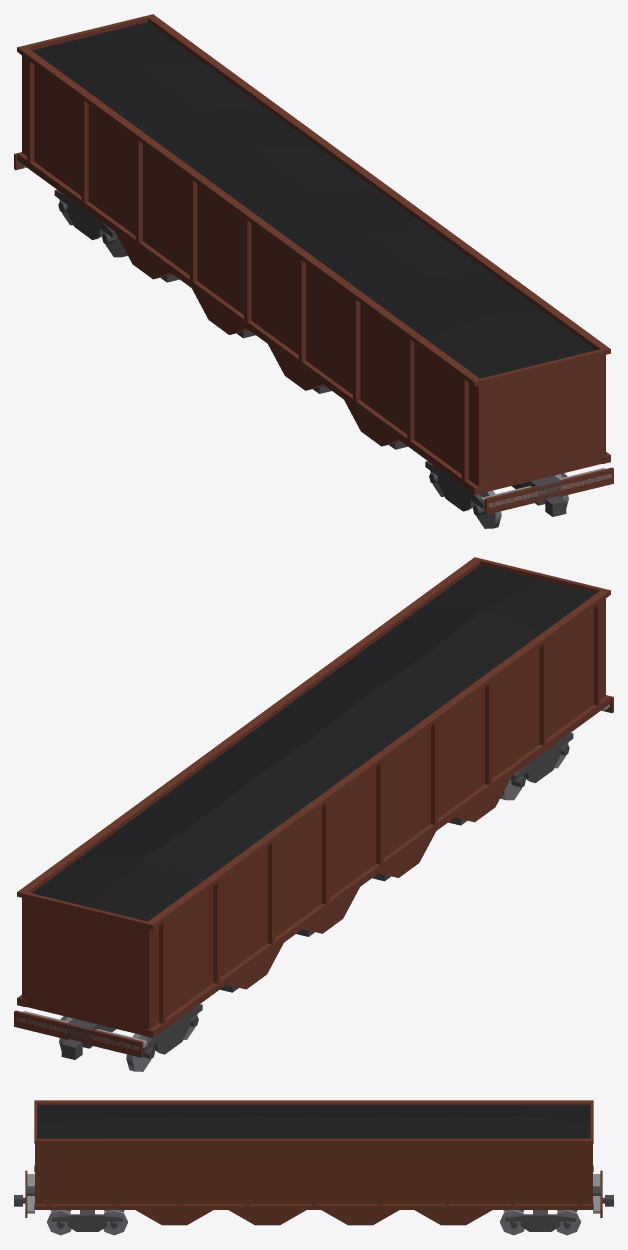
File: wagon_1.fbx
3 renders of one model, top to bottom at view 1: azimuth 30°, elevation 25°; view 2: azimuth 150°, elevation 25°; view 3: azimuth 270°, elevation 25°, orthographic. The views are drawn at different scales.
Visible parts, largest first — view 1: 22_wagon_1; view 2: 22_wagon_1; view 3: 22_wagon_1.
Part boxes in pixels (x1,y1,x2,y2): 22_wagon_1: (14, 14, 613, 528); 22_wagon_1: (14, 557, 613, 1071); 22_wagon_1: (14, 1100, 613, 1235).
Bounding box in the file's own units: 3.2 × 3.98 × 20.
